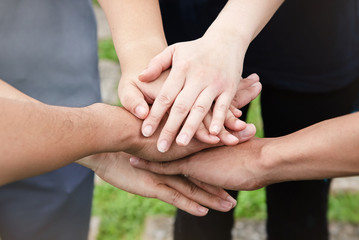finger: (133, 68, 192, 136), (155, 87, 196, 151), (166, 177, 233, 213), (174, 91, 218, 145), (143, 196, 213, 219), (189, 176, 240, 207), (128, 156, 188, 174), (230, 81, 267, 109), (207, 96, 232, 134)
